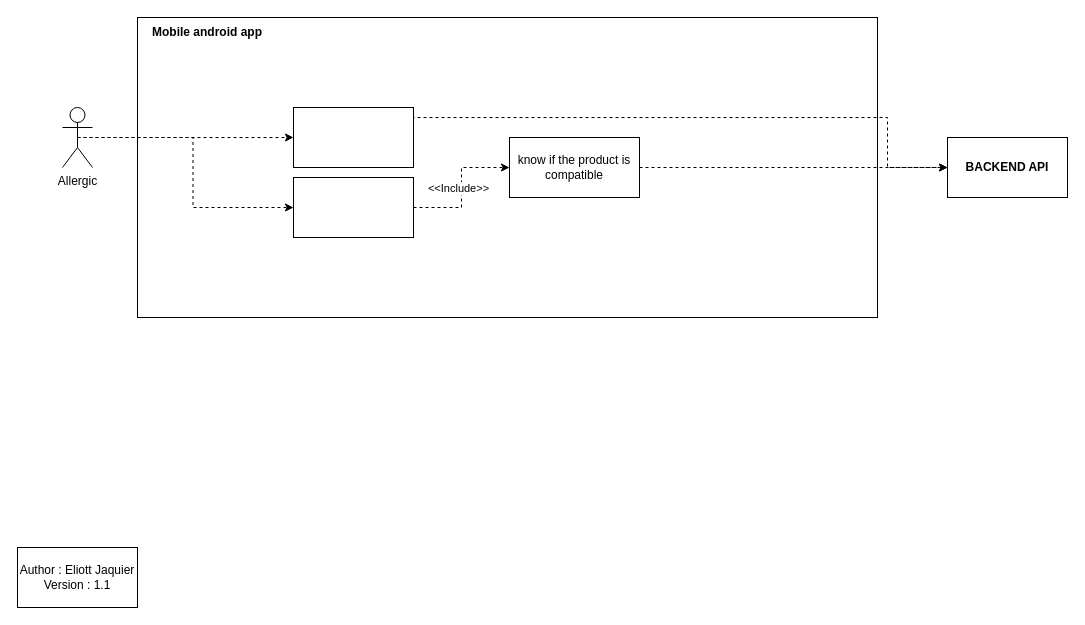
This 1085x625 diagram has some shape labels left out. Each missing label, with the box of its shape:
Add allergens: (292, 106, 414, 168)
Scan product: (292, 176, 414, 238)
